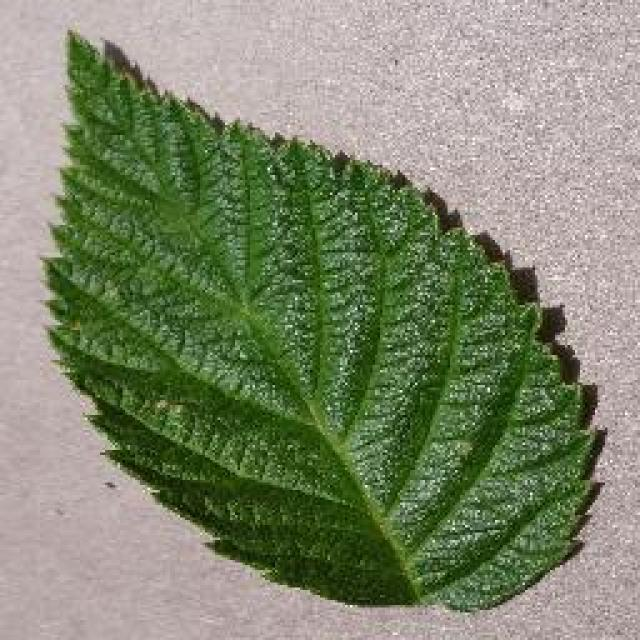Ras_healthy: (49, 95, 524, 570)
